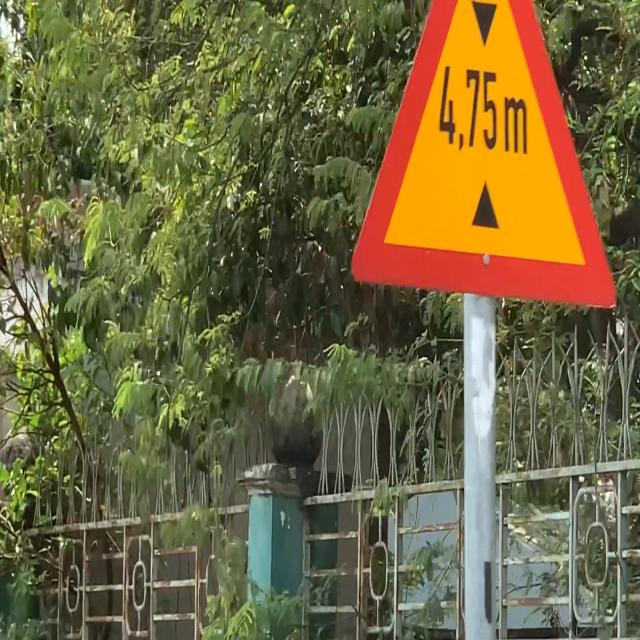S.509a: (348, 0, 621, 314)
